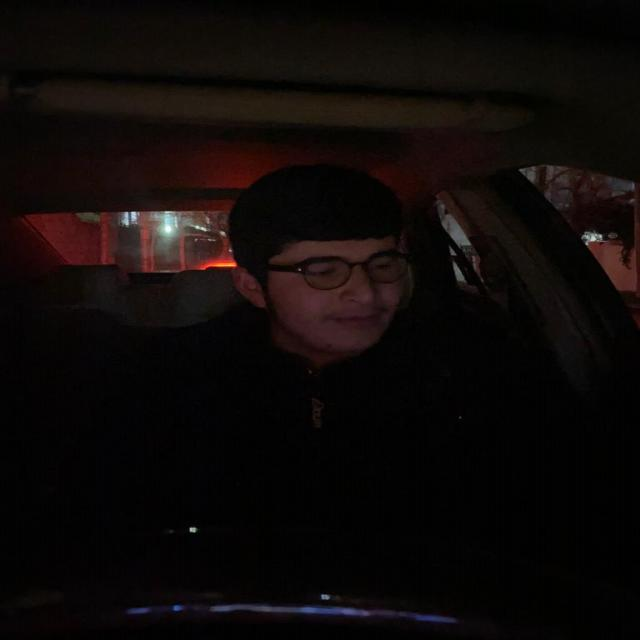drowsy: (228, 167, 412, 362)
